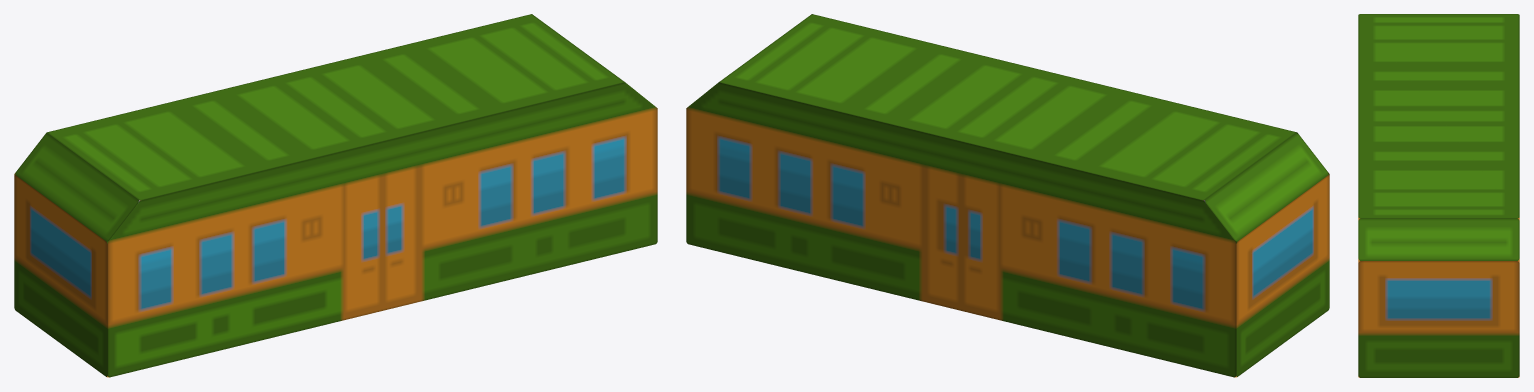
File: Train.fbx
3 renders of one model, left to right at view 1: azimuth 30°, elevation 25°; view 2: azimuth 150°, elevation 25°; view 3: azimuth 270°, elevation 25°, orthographic. The views are drawn at different scales.
Visible parts, largest first — view 1: cuboid; view 2: cuboid; view 3: cuboid.
Part boxes in pixels (box(x1,y1,x2,y2)): cuboid: box(14, 14, 657, 377); cuboid: box(686, 14, 1329, 377); cuboid: box(1358, 14, 1519, 377).
Size of the model in its own units: 106 by 31.25 by 31.25.
Materials: 1 (1 with a texture image).
